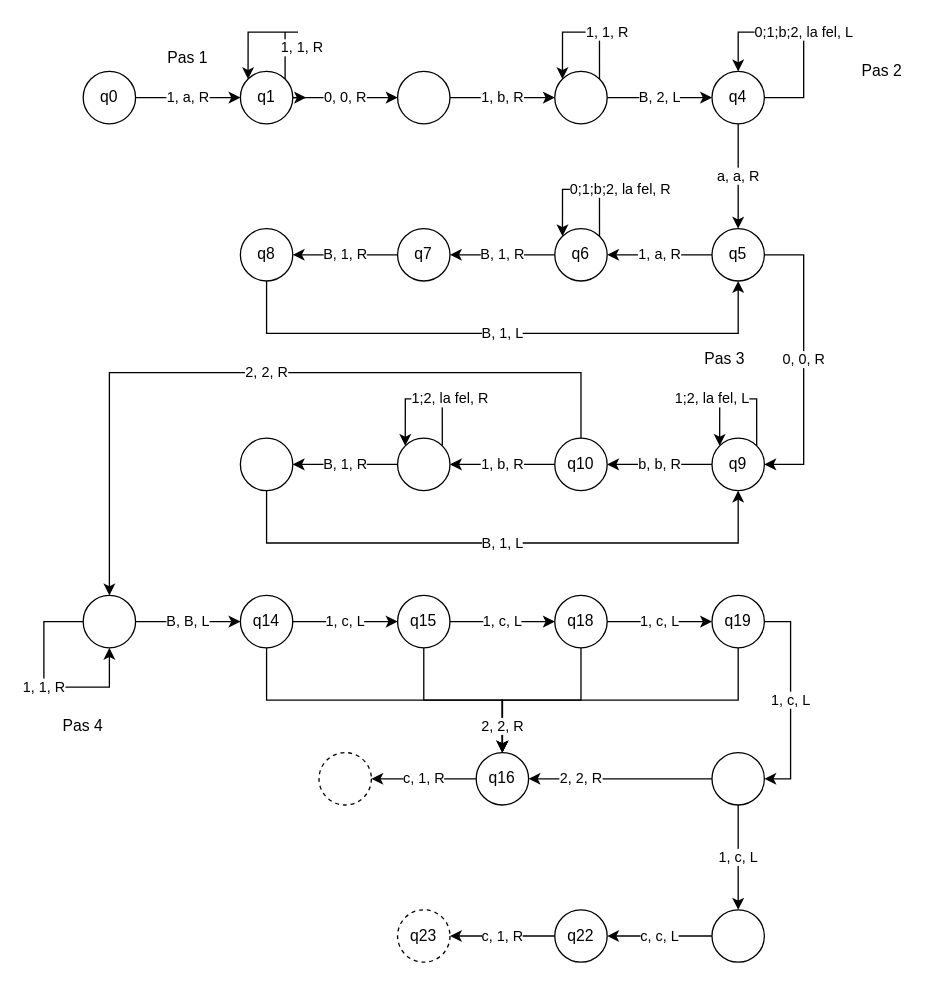
Image size: 943x985. Some labels were removed from this diagram. Here are the shapes that lost their labels. From the top down, the box of each, then its label:
(396, 70, 450, 124): q2
(553, 70, 607, 124): q3
(239, 437, 293, 491): q12
(396, 437, 450, 491): q11
(82, 594, 136, 648): q13
(318, 751, 371, 805): q17
(711, 751, 764, 805): q20
(711, 908, 764, 962): q21
